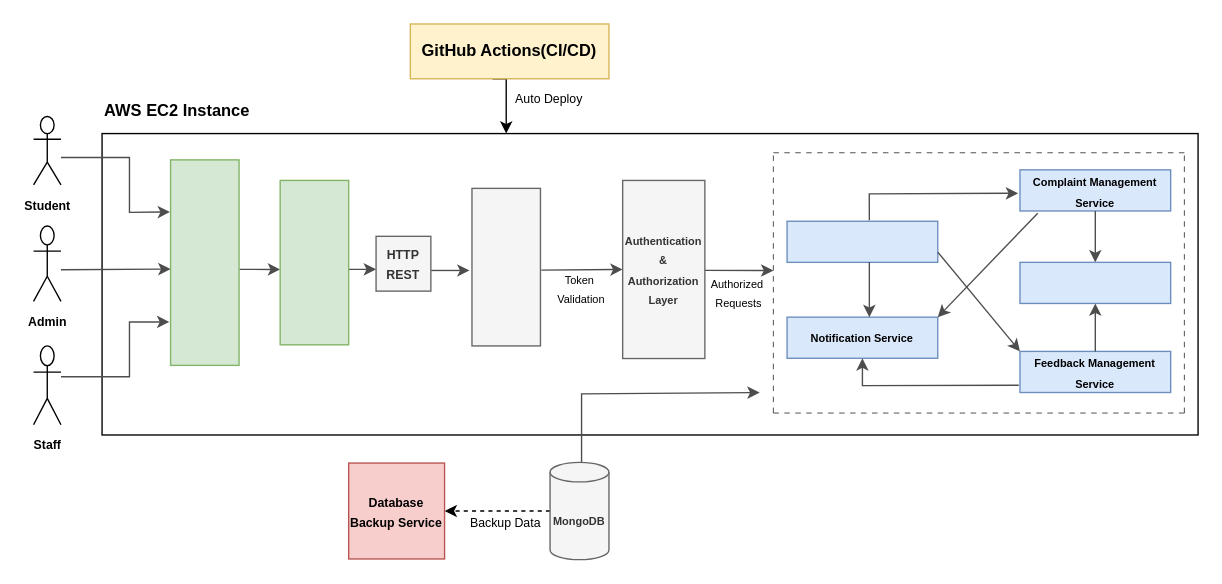
Some shapes in this 1222 by 584 pixel diagram are drawn without their labels. The shapes that lost their labels are listed below. From the top down, each one's centre as x and y in pixels, then its label:
point (862, 241): User Management Service
point (204, 262): Web Interface
point (314, 262): LB
point (505, 266): API Gateway
point (1095, 282): Dashboard Service
